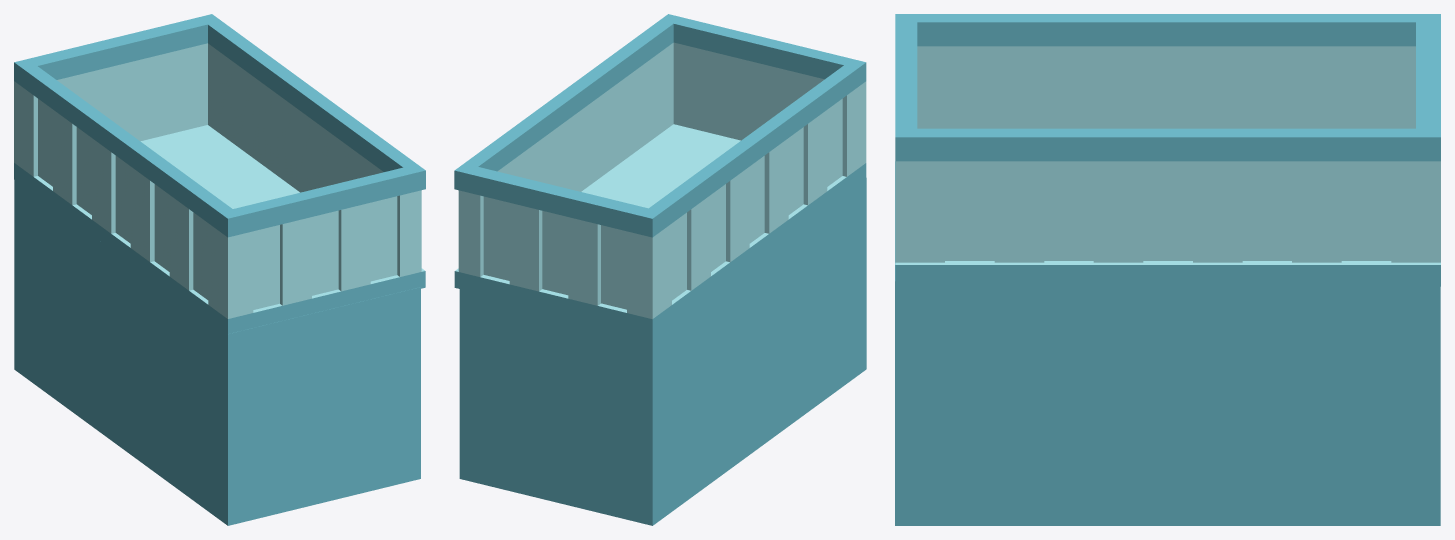
The model's file is extrawalllarge.fbx.
3 renders of one model, left to right at view 1: azimuth 30°, elevation 25°; view 2: azimuth 150°, elevation 25°; view 3: azimuth 270°, elevation 25°, orthographic. The views are drawn at different scales.
Visible parts, largest first — view 1: Roof.011, extrawalllarge; view 2: Roof.011, extrawalllarge; view 3: Roof.011, extrawalllarge.
Part boxes in pixels (bbox=[...]): Roof.011: bbox=[14, 14, 425, 333]; extrawalllarge: bbox=[14, 178, 420, 525]; Roof.011: bbox=[454, 14, 866, 335]; extrawalllarge: bbox=[459, 178, 866, 525]; Roof.011: bbox=[895, 14, 1440, 286]; extrawalllarge: bbox=[895, 161, 1440, 525].
Bounding box in the file's own units: 6.48 × 9.61 × 12.13.
